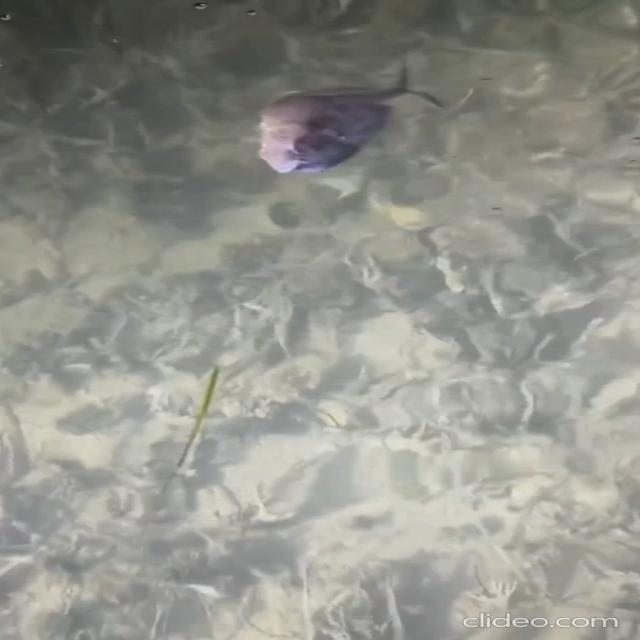fish: (241, 66, 488, 183)
